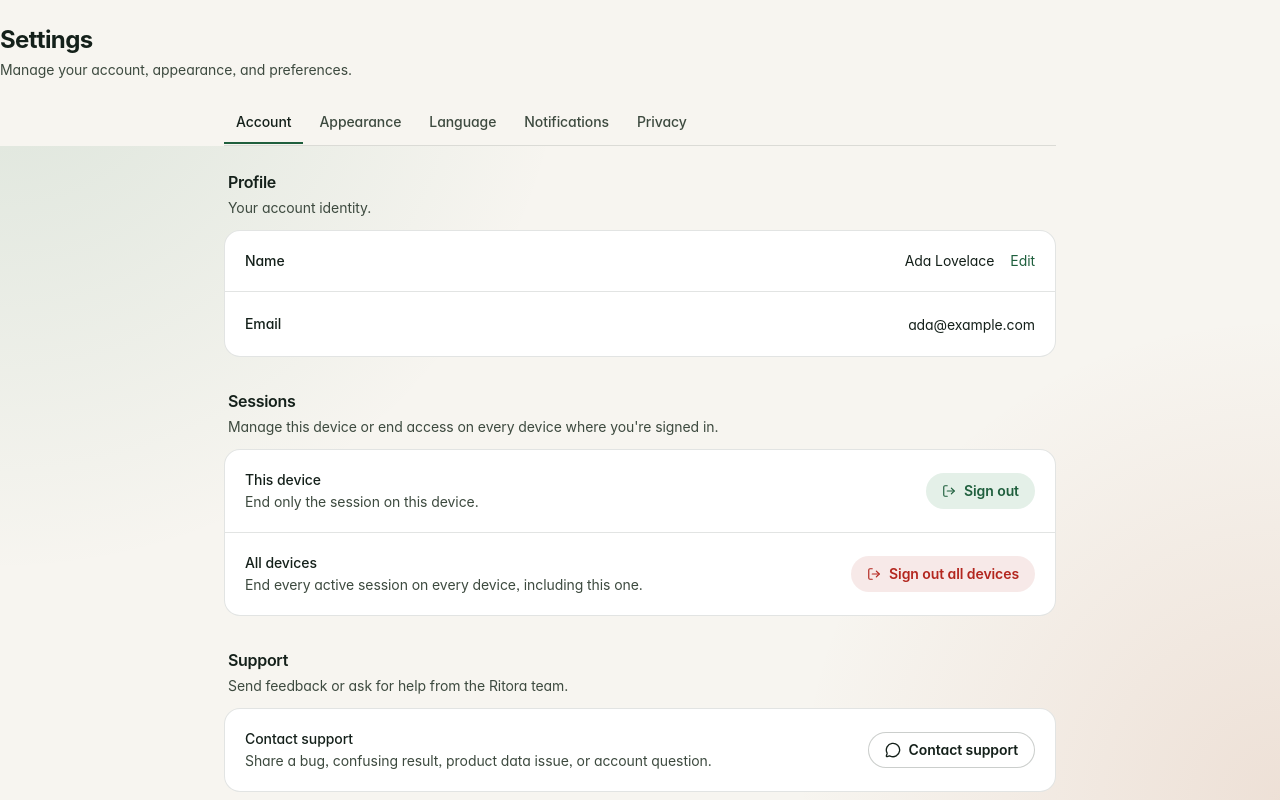
Test: SettingsPage › opens confirmation before signing out from all devices
Click the button "Sign out all devices" at (943, 574), box [851,556,1035,592]
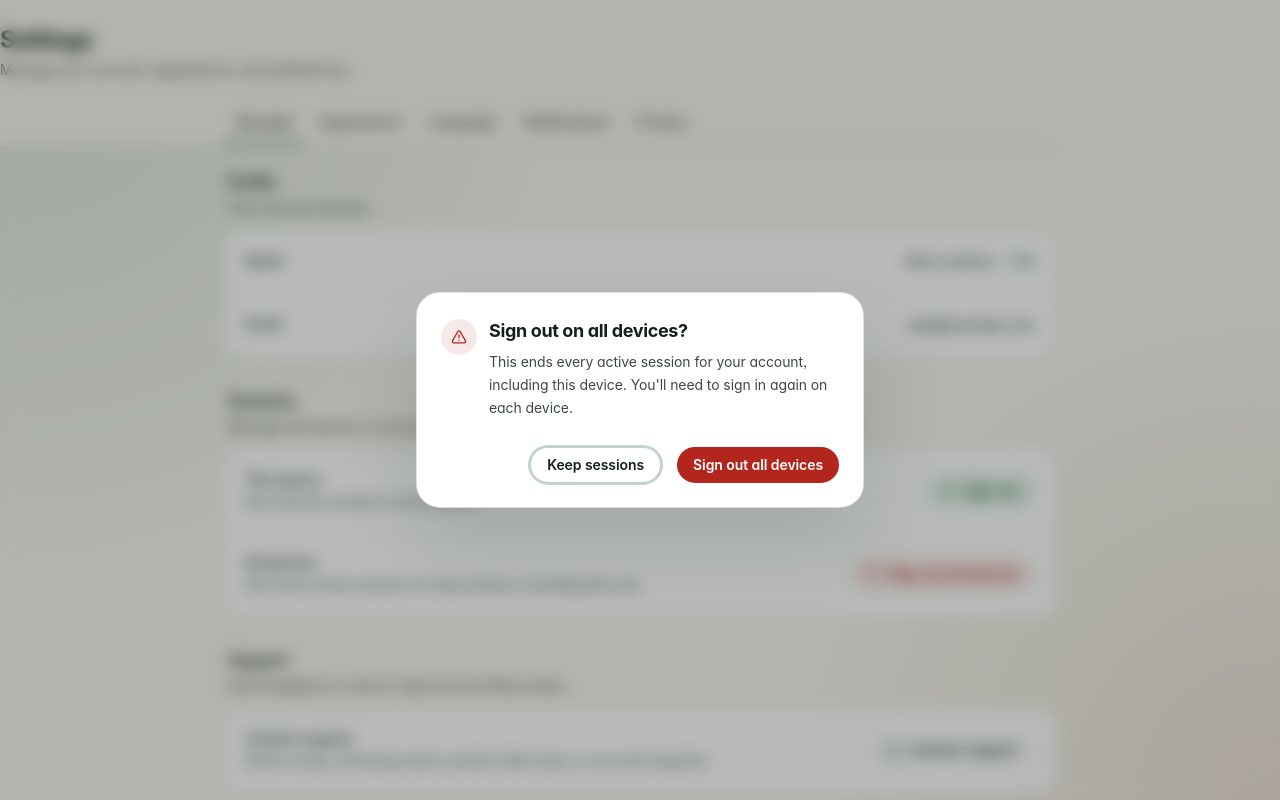
Expected: the heading "Sign out on all devices?" is shown, [489,320,688,341]
